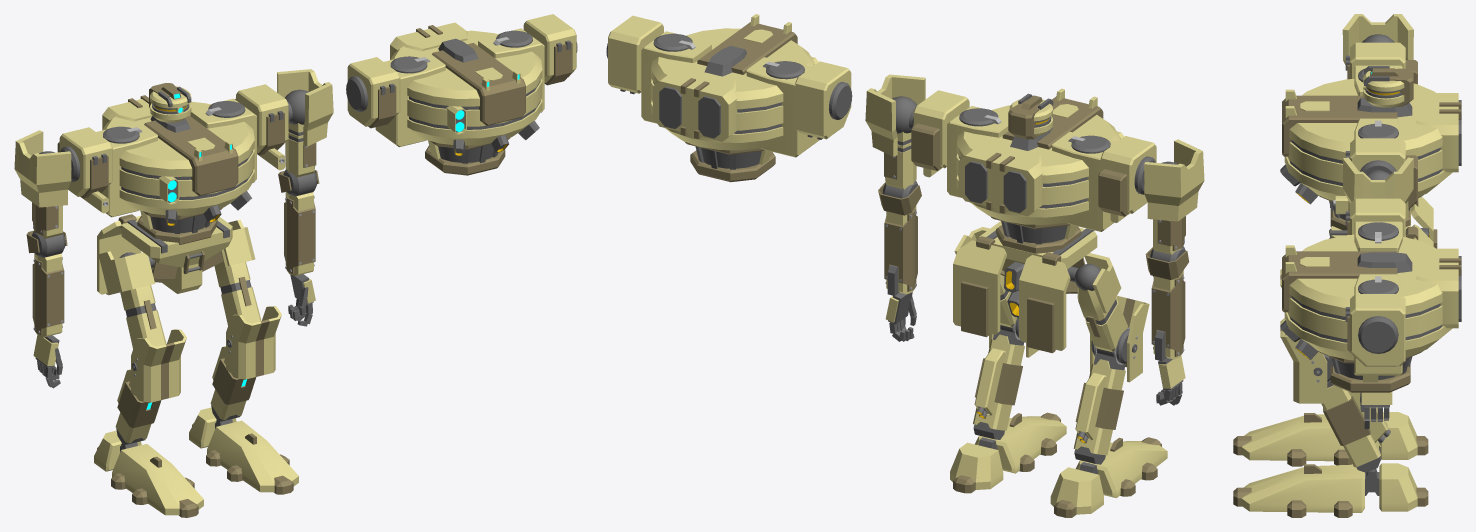
File: mech 'Snail'.fbx
3 renders of one model, left to right at view 1: azimuth 30°, elevation 25°; view 2: azimuth 150°, elevation 25°; view 3: azimuth 270°, elevation 25°, orthographic. The views are drawn at different scales.
Parts seen in each view (by area): view 1: pCylinder27, pCylinder22, pCube133 (×2), pCube64 (×2), pCube128 (×2), pCube100 (×2), pCube122 (×2), pCube95 (×2), pCube126 (×2), pCube71 (×2), pCube65 (×2), pCube105 (+11 smaller); view 2: pCube100 (×2), pCube73 (×2), pCylinder27, pCube108 (×2), pCylinder22, pCube95 (×2), pCube133 (×2), pCube71 (×2), pCube122 (×2), pCube65 (×2), pCube139 (×2), pCube64 (×2) (+21 smaller); view 3: pCylinder27, pCube133 (×2), pCylinder22, pCube64 (×2), pCube73 (×2), pCube71 (×2), pCube100 (×2), pCube139 (×2), pCube95 (×2), pCube128, pCylinder23 (×2), pCube81 (×2) (+18 smaller).
Part boxes in pixels (x1=…): pCylinder27: x1=390, y1=30, x2=542, y2=145; pCylinder22: x1=102, y1=101, x2=254, y2=215; pCube133 (×2): x1=112, y1=420, x2=298, y2=515; pCube64 (×2): x1=144, y1=43, x2=525, y2=196; pCube128 (×2): x1=131, y1=306, x2=281, y2=402; pCube100 (×2): x1=14, y1=69, x2=333, y2=207; pCube122 (×2): x1=32, y1=196, x2=315, y2=334; pCube95 (×2): x1=59, y1=57, x2=400, y2=196; pCube126 (×2): x1=120, y1=249, x2=261, y2=348; pCube71 (×2): x1=236, y1=14, x2=576, y2=153; pCube65 (×2): x1=96, y1=53, x2=445, y2=217; pCube105: x1=121, y1=217, x2=232, y2=293; pCube100 (×2): x1=865, y1=74, x2=1204, y2=221; pCube73 (×2): x1=653, y1=68, x2=1042, y2=216; pCylinder27: x1=651, y1=28, x2=814, y2=150; pCube108 (×2): x1=953, y1=240, x2=1070, y2=350; pCylinder22: x1=956, y1=105, x2=1120, y2=224; pCube95 (×2): x1=795, y1=61, x2=1156, y2=213; pCube133 (×2): x1=975, y1=416, x2=1167, y2=498; pCube71 (×2): x1=608, y1=15, x2=969, y2=168; pCube122 (×2): x1=884, y1=209, x2=1185, y2=356; pCube65 (×2): x1=746, y1=57, x2=1117, y2=231; pCube139 (×2): x1=950, y1=442, x2=1103, y2=514; pCube64 (×2): x1=697, y1=22, x2=1103, y2=149; pCylinder27: x1=1284, y1=234, x2=1452, y2=360; pCube133 (×2): x1=1241, y1=414, x2=1364, y2=512; pCylinder22: x1=1284, y1=79, x2=1452, y2=200; pCube64 (×2): x1=1282, y1=95, x2=1397, y2=312; pCube73 (×2): x1=1416, y1=93, x2=1458, y2=328; pCube71 (×2): x1=1350, y1=138, x2=1405, y2=366; pCube100 (×2): x1=1342, y1=14, x2=1413, y2=220; pCube139 (×2): x1=1379, y1=412, x2=1417, y2=511; pCube95 (×2): x1=1350, y1=42, x2=1405, y2=237; pCube128: x1=1280, y1=318, x2=1327, y2=403; pCylinder23 (×2): x1=1358, y1=160, x2=1398, y2=353; pCube81 (×2): x1=1330, y1=208, x2=1410, y2=392.
Size of the model in its own units: 37.84 by 24.31 by 12.4.
